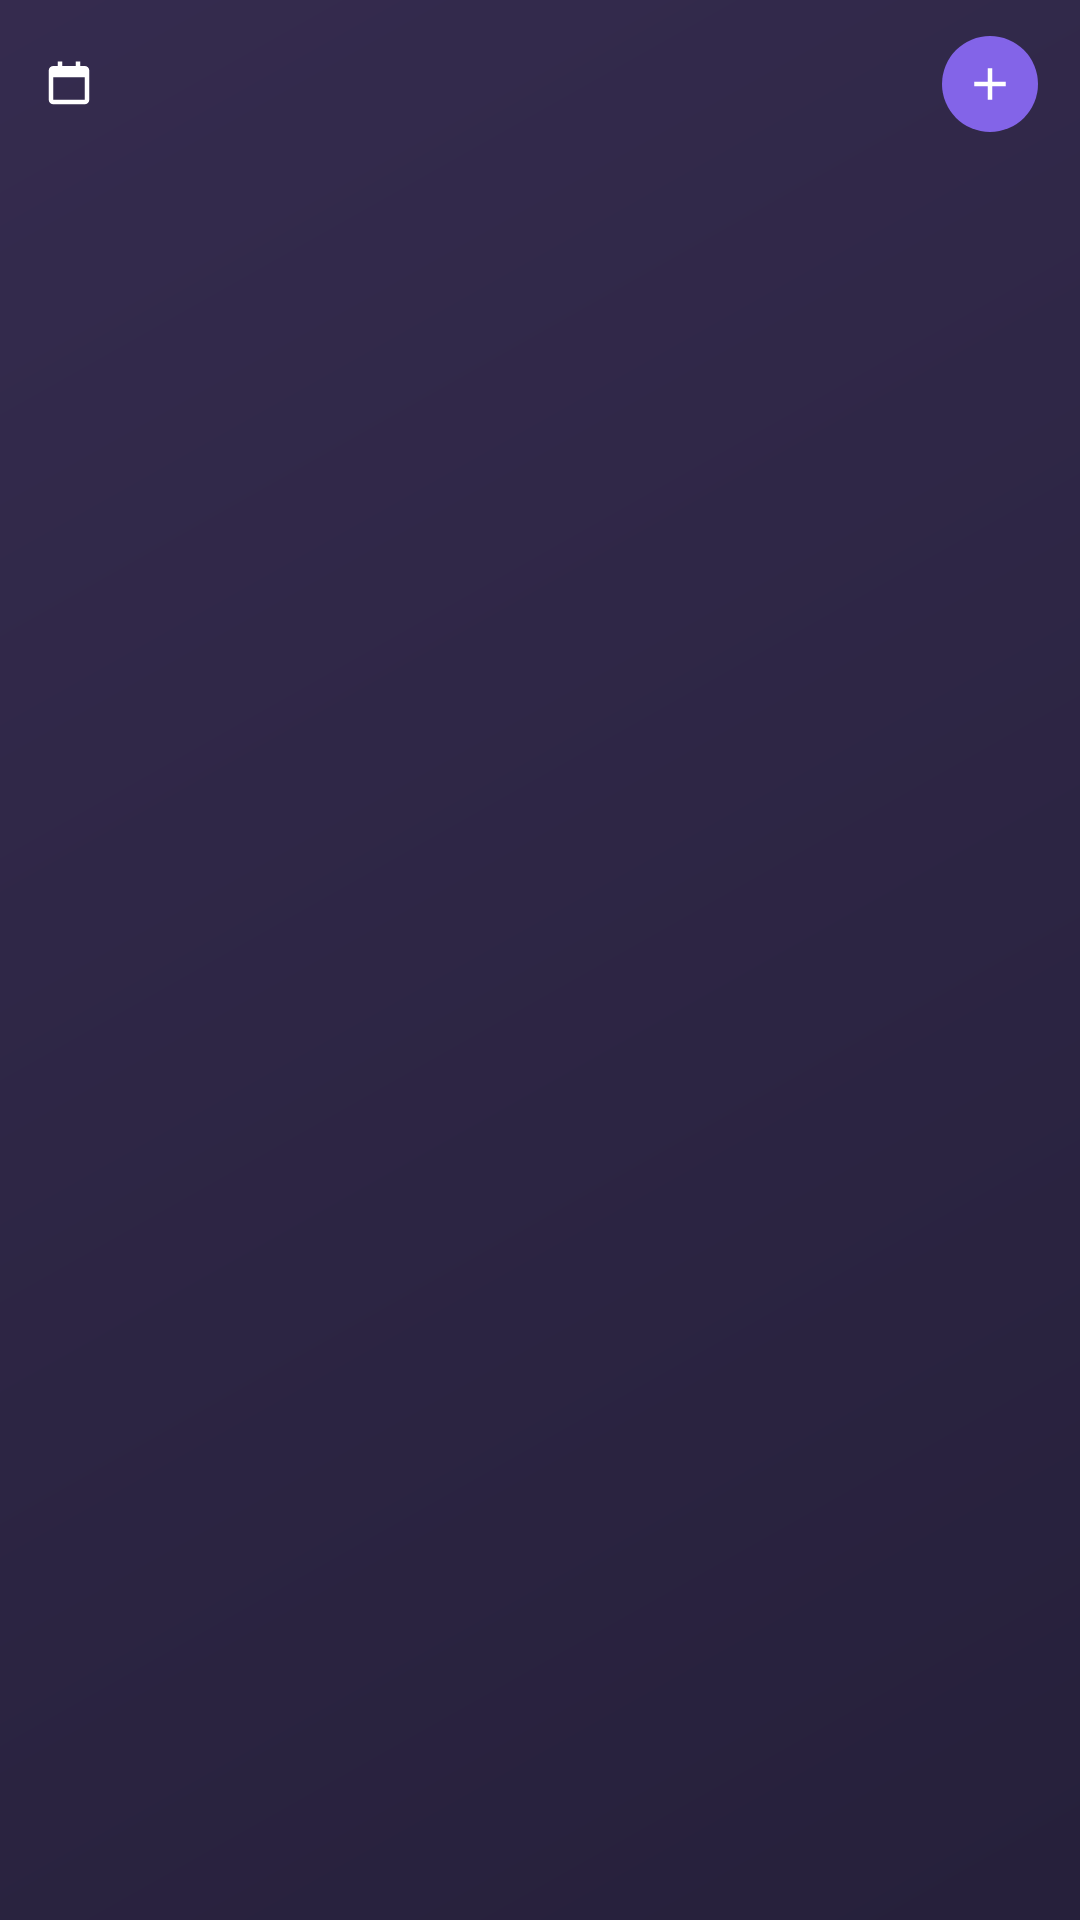

Screen size 1080*1920. Icon name, then its center in pixels as point (x, y):
cal: point (69, 83)
New task: point (990, 84)
